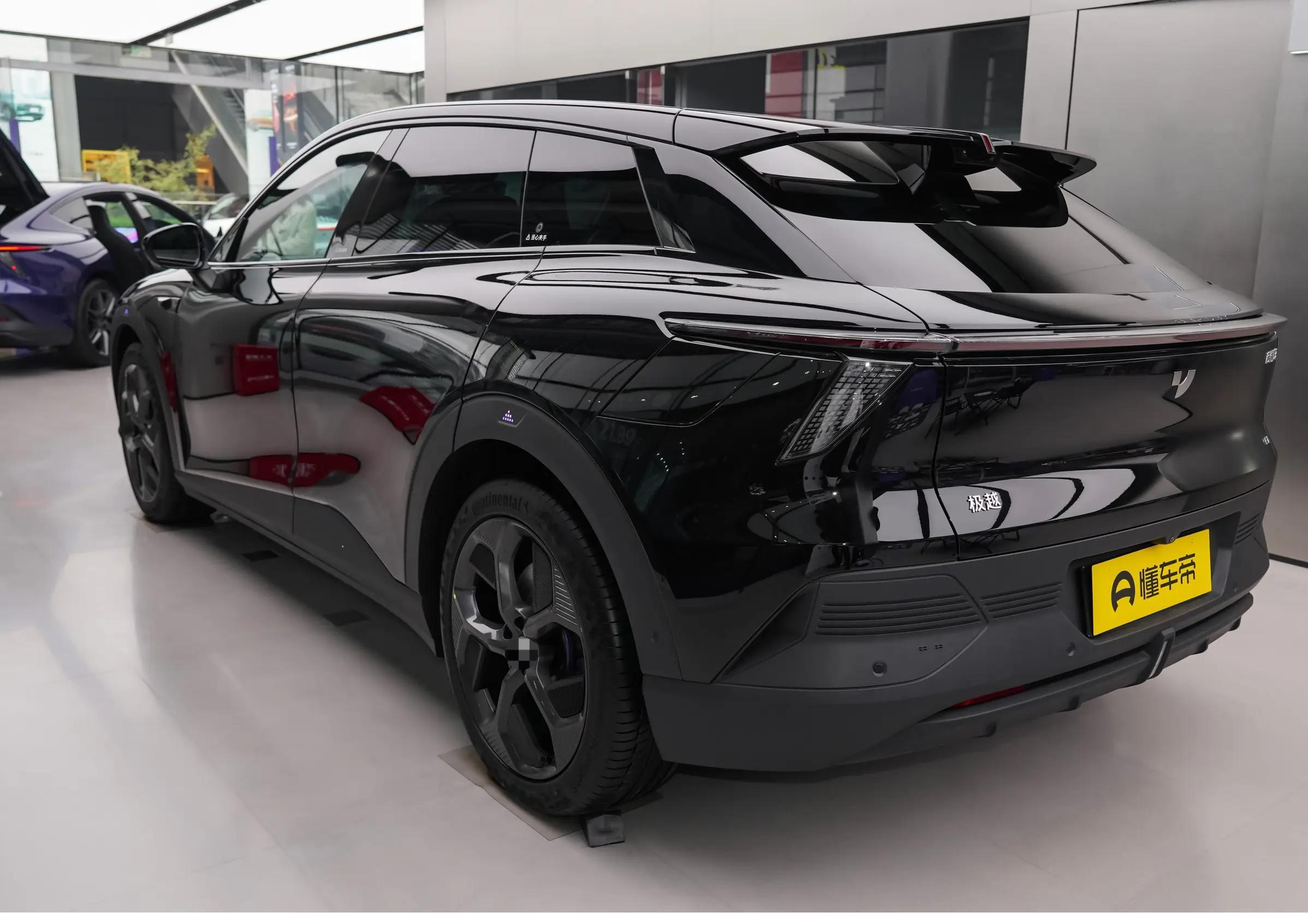JIYUE: (1172, 370, 1197, 398)
